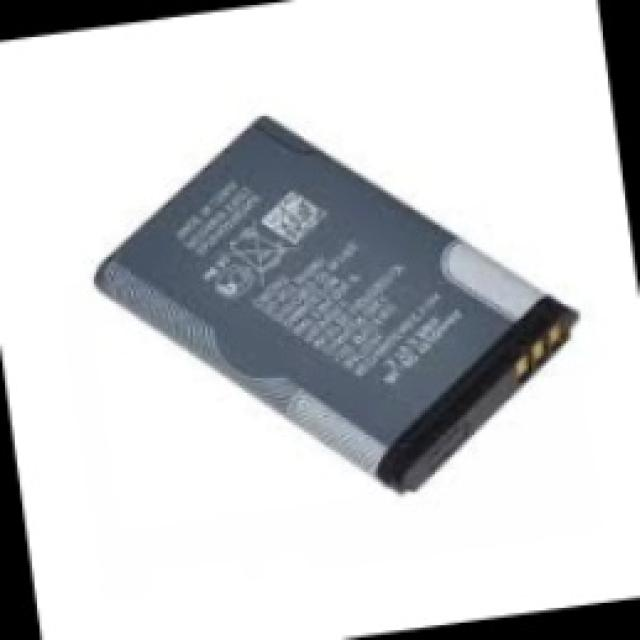elektronik: (96, 116, 576, 492), (232, 117, 404, 222)
